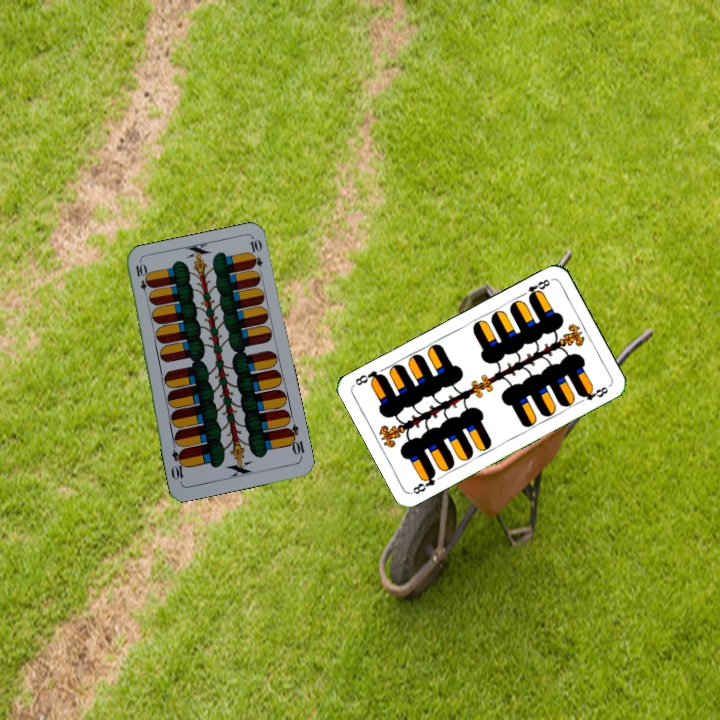E10: (282, 420, 307, 461), (131, 260, 152, 300)
E8: (517, 275, 553, 302), (408, 468, 439, 497)
